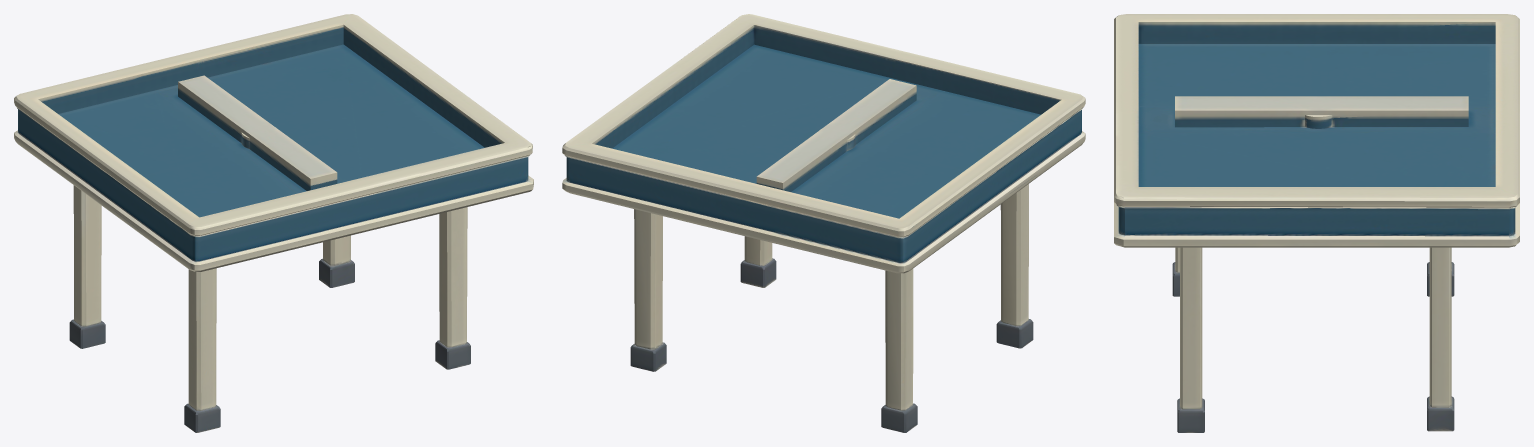
Rendered from wl_canopy_station.glb.
3 views of the same model, side by side, from view 1: azimuth 30°, elevation 25°; view 2: azimuth 150°, elevation 25°; view 3: azimuth 270°, elevation 25° (orthographic). The views are drawn at different scales.
Parts seen in each view (by area): view 1: wl_canopy_station; view 2: wl_canopy_station; view 3: wl_canopy_station.
Boxes of the visible parts, <box> form: wl_canopy_station: <box>14,14,533,432</box>; wl_canopy_station: <box>562,14,1085,432</box>; wl_canopy_station: <box>1114,14,1519,432</box>.
Size of the model in its own units: 8.6 by 5.5 by 7.95.
Materials: 1 (1 with a texture image).
